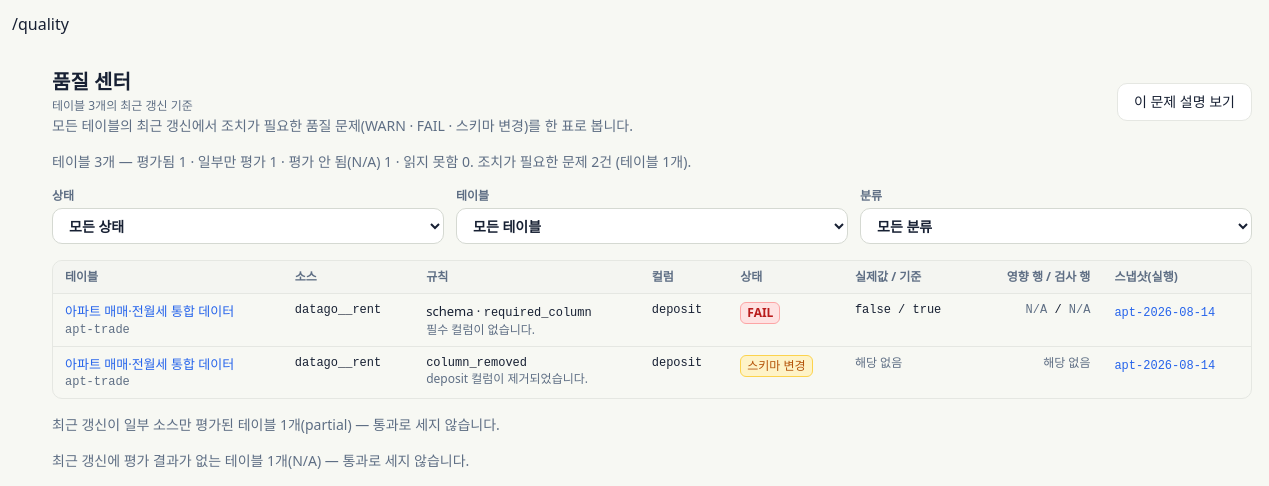
Test: Quality Center across tables (#536) › filters by status, table and category and keeps the filters in the URL
This screenshot has width=1269, height=486.
Expected: the number of rows is 3, [53, 261, 1251, 294]; [53, 294, 1251, 346]; [53, 346, 1251, 398]
Step 1. Select "스키마 변경" in the dropdown labelled "상태" → [248, 226], box [52, 208, 444, 244]
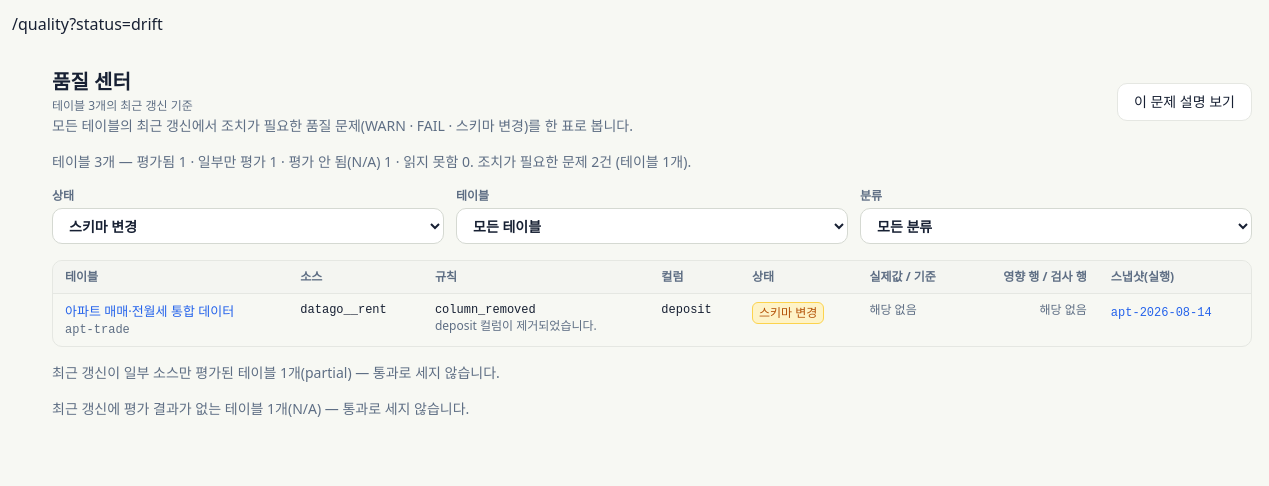
Expected: the number of rows is 2, [53, 261, 1251, 294]; [53, 294, 1251, 346]
Now the text with test id "location" shows "status=drift", box [69, 13, 163, 35]
Now the row "column_removed" is shown, box [53, 294, 1251, 346]
Step 2. Select "모든 상태" in the dropdown labelled "상태" → [248, 226], box [52, 208, 444, 244]
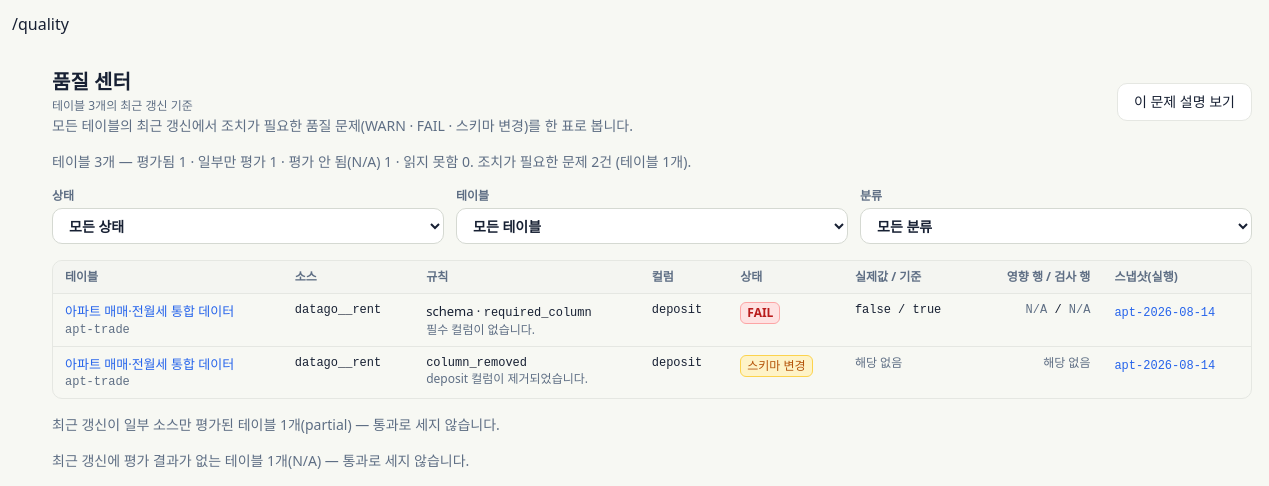
Step 3. Select "schema" in the dropdown labelled "분류" → [1056, 226], box [860, 208, 1252, 244]
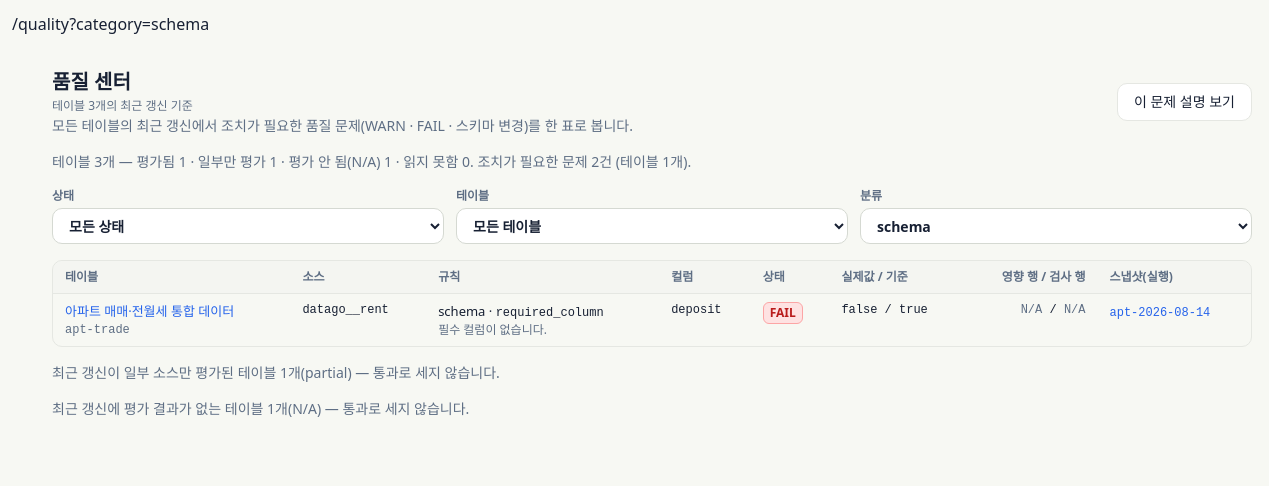
Now the row "required_column" is shown, box [53, 294, 1251, 346]
Now the text with test id "location" shows "category=schema", box [69, 13, 209, 35]
Now the text "column_removed" is gone
Step 4. Select "모든 분류" in the dropdown labelled "분류" → [1056, 226], box [860, 208, 1252, 244]
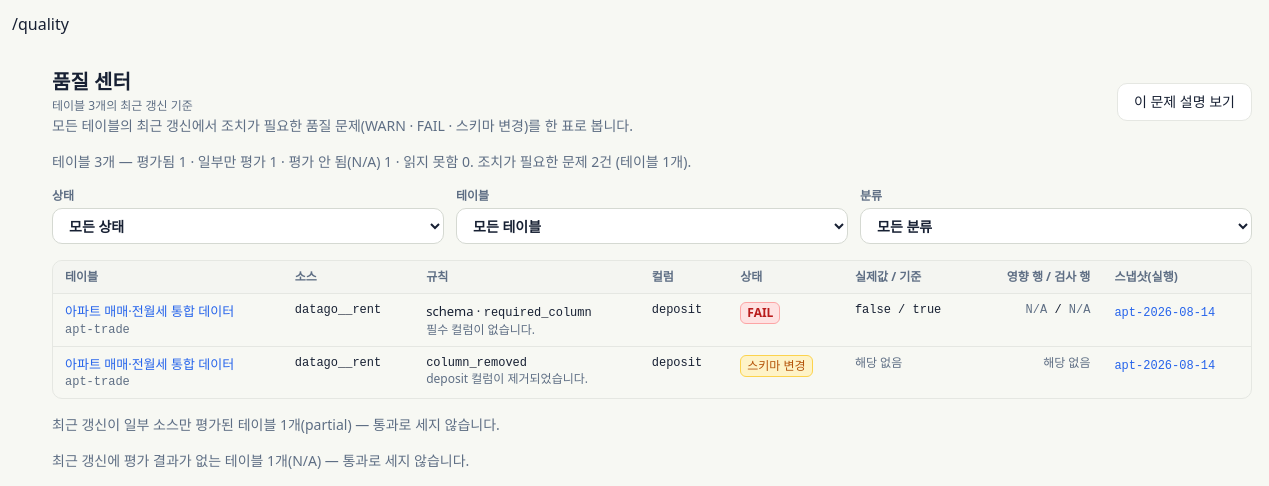
Step 5. Select "아파트 매매·전월세 통합 데이터" in the dropdown labelled "테이블" → [652, 226], box [456, 208, 848, 244]
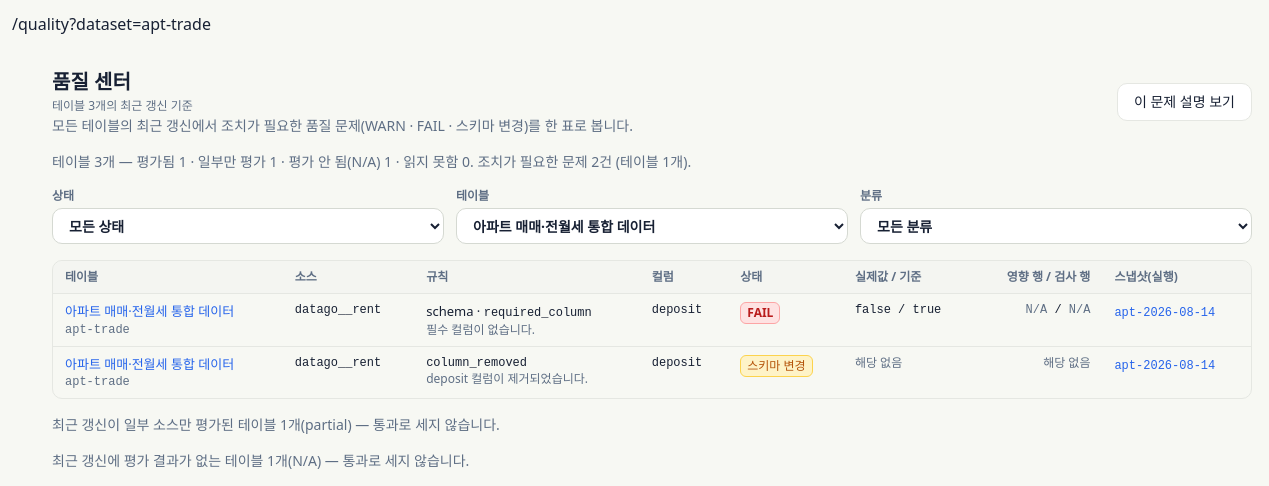
Expected: the number of rows is 3, [53, 261, 1251, 294]; [53, 294, 1251, 346]; [53, 346, 1251, 398]
Now the text with test id "location" shows "dataset=apt-trade", box [69, 13, 211, 35]
